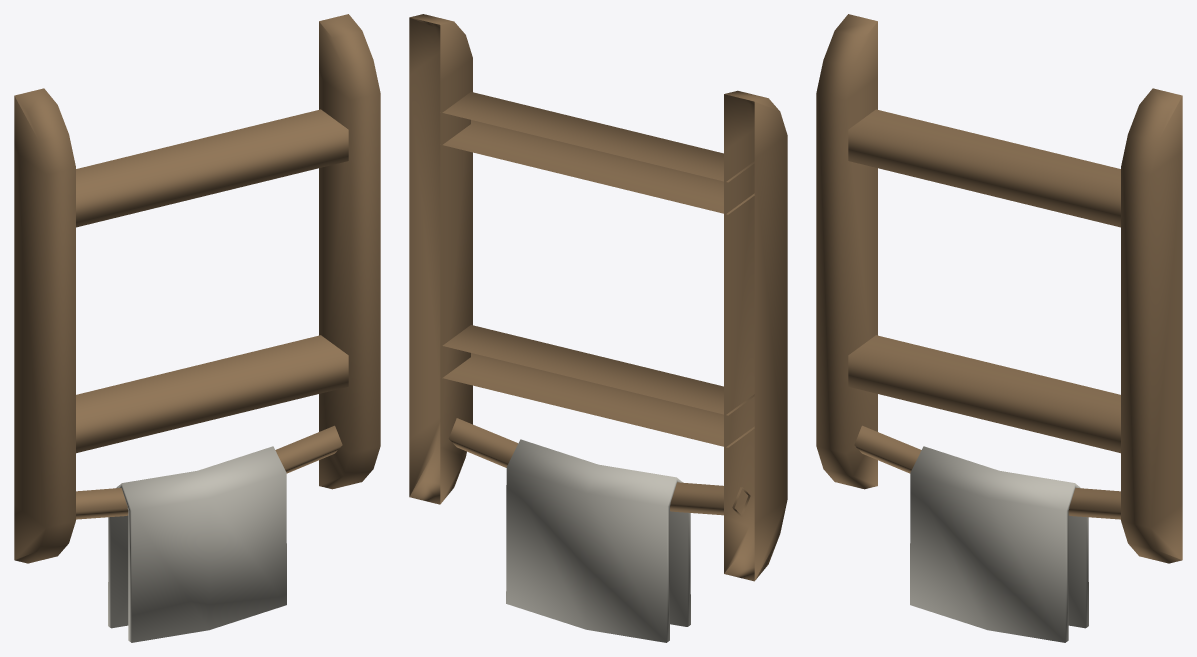
Rendered from rpgpp_ag_shelf_wall_02b.fbx.
The picture shows the model from 3 angles, left to right: view 1: azimuth 30°, elevation 25°; view 2: azimuth 150°, elevation 25°; view 3: azimuth 330°, elevation 25°; orthographic projection. The views are drawn at different scales.
Visible parts, largest first — view 1: rpgpp_ag_shelf_wall_02b; view 2: rpgpp_ag_shelf_wall_02b; view 3: rpgpp_ag_shelf_wall_02b.
Boxes of the visible parts, left/top/right/bottom form: rpgpp_ag_shelf_wall_02b: left=14, top=14, right=380, bottom=642; rpgpp_ag_shelf_wall_02b: left=409, top=14, right=787, bottom=642; rpgpp_ag_shelf_wall_02b: left=816, top=14, right=1182, bottom=642.
Bounding box in the file's own units: 0.527 × 0.8366 × 0.087.
